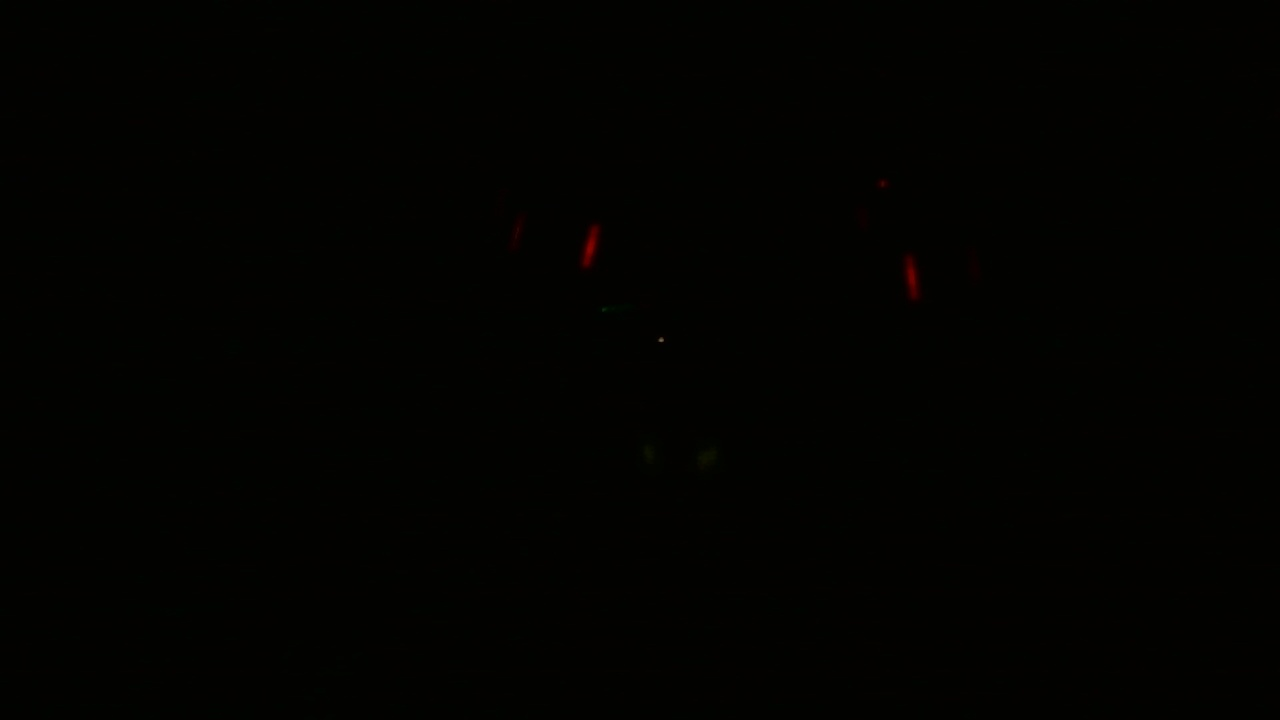pair1: (902, 250, 943, 304)
